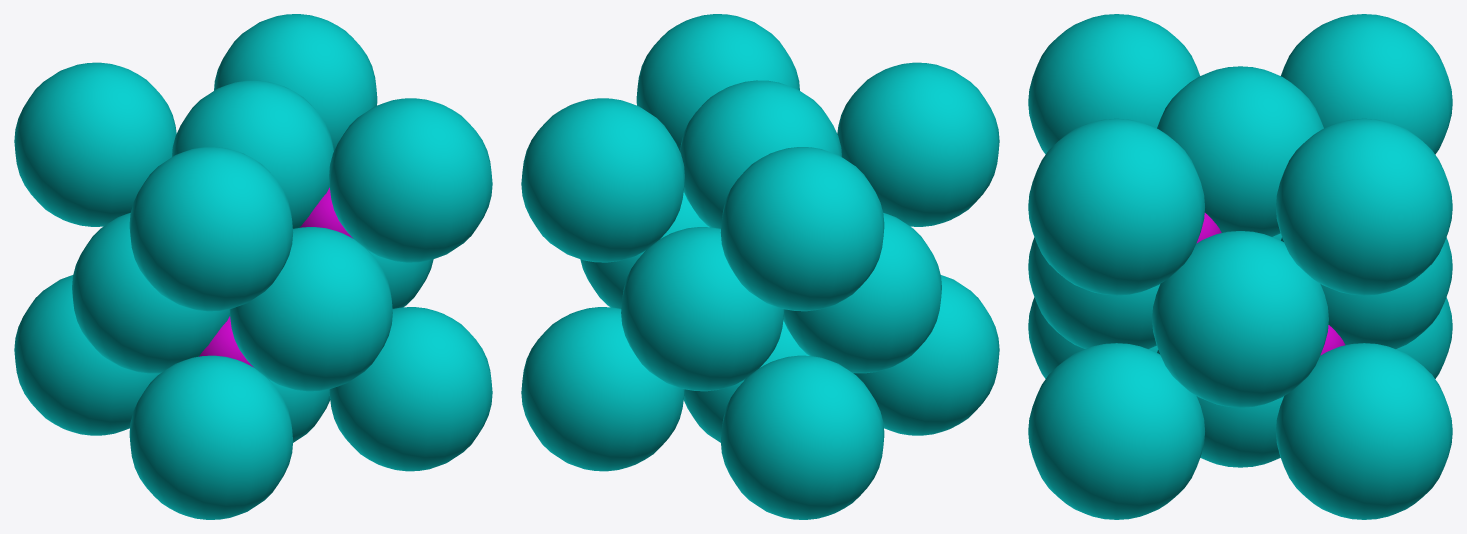
File: blendagordo_centrado.glb
The picture shows the model from 3 angles, left to right: view 1: azimuth 30°, elevation 25°; view 2: azimuth 150°, elevation 25°; view 3: azimuth 270°, elevation 25°; orthographic projection. The views are drawn at different scales.
Visible parts, largest first — view 1: atomo19; view 2: atomo19; view 3: atomo19.
Boxes of the visible parts, x1=… form: atomo19: x1=14, y1=14, x2=492, y2=519; atomo19: x1=521, y1=14, x2=999, y2=519; atomo19: x1=1028, y1=14, x2=1452, y2=519.
Bounding box in the file's own units: 1.71 × 1.71 × 1.71.
